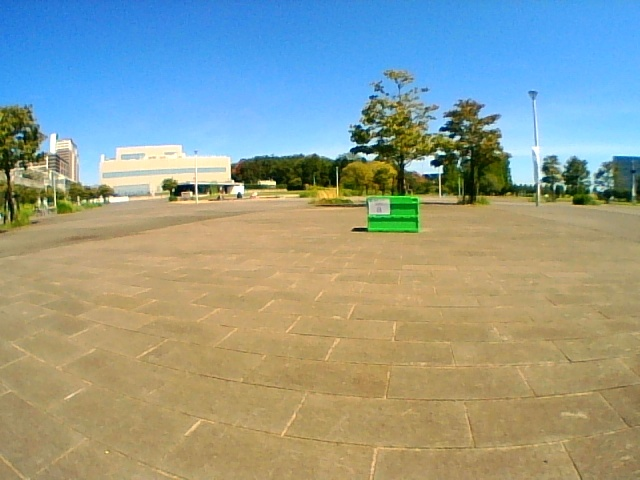green_box: (367, 196, 418, 231)
tag: (369, 200, 390, 215)
